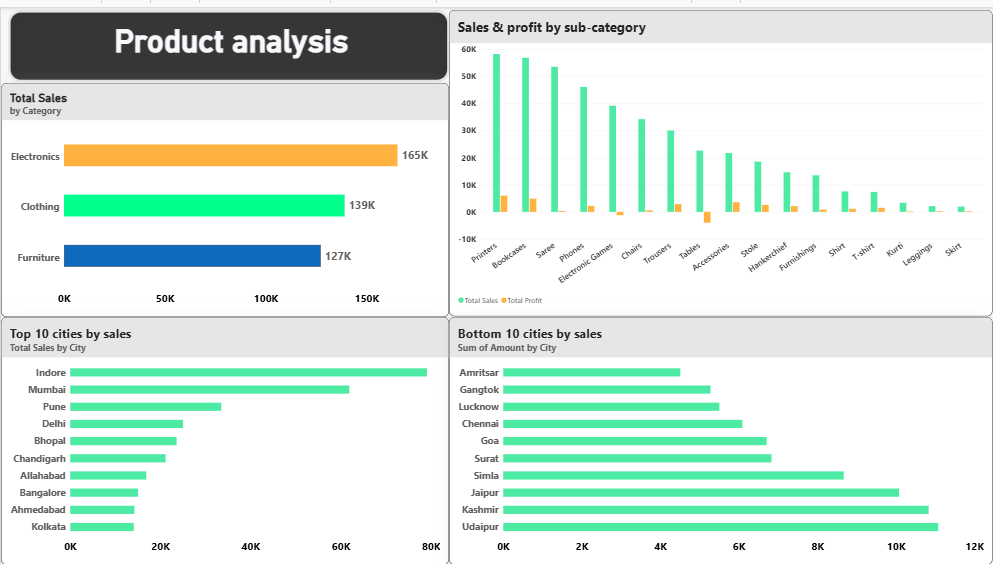

Layout of this report page (visuals, bound fields, positions):
{"tool":"powerbi","page":{"name":"Product analysis","canvas":[1920,1080],"ordinal":1},"visuals":[{"type":"textbox","title":" Product analysis","box":[12.8,6.4,854.6,140.3],"z":0},{"type":"barChart","fields":{"Category":["Table1_1.Category"],"Y":["Table1_1.Total Sales"]},"box":[0,146.7,867.4,452.8],"z":1000},{"type":"lineClusteredColumnComboChart","title":"Sales & profit by sub-category","fields":{"Category":["Table1_1.Sub-Category"],"Y":["Table1_1.Total Sales","Table1_1.Total Profit"]},"box":[867.4,6.4,1052.4,593.1],"z":2000},{"type":"clusteredBarChart","title":"Top 10 cities by sales","fields":{"Category":["Table1_1.City"],"Y":["Table1_1.Total Sales"]},"box":[0,599.5,867.4,480.5],"z":3000},{"type":"clusteredBarChart","title":"Bottom 10 cities by sales","fields":{"Category":["Table1_1.City"],"Y":["Sum(Table1_1.Amount)"]},"box":[867.4,599.5,1052.4,480.5],"z":4000}]}

Visuals, with their boxes in screenshot pixels (x1, y1, x2, y2), scaled from the page's 1920x1080 canvas onto the 993x564 screenshot:
" Product analysis" textbox: [left=7, top=3, right=449, bottom=77]
barChart - Table1_1.Category x Table1_1.Total Sales: [left=0, top=77, right=449, bottom=313]
"Sales & profit by sub-category" lineClusteredColumnComboChart: [left=449, top=3, right=992, bottom=313]
"Top 10 cities by sales" clusteredBarChart: [left=0, top=313, right=449, bottom=563]
"Bottom 10 cities by sales" clusteredBarChart: [left=449, top=313, right=992, bottom=563]
